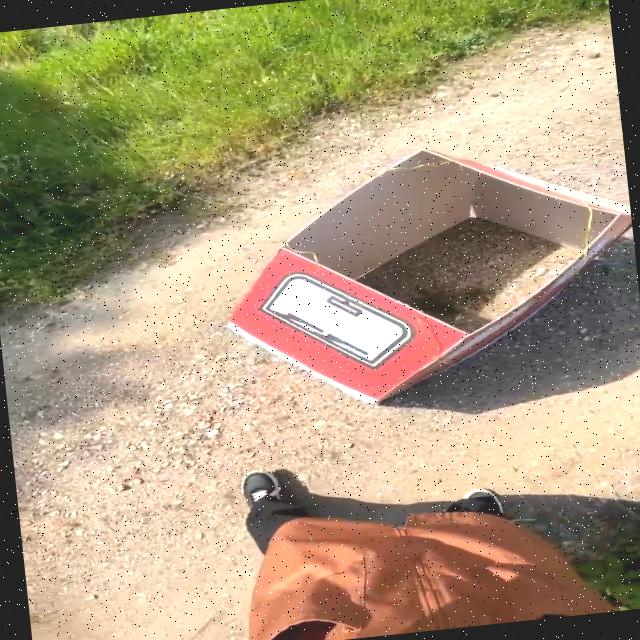red_car: (125, 101, 640, 444)
